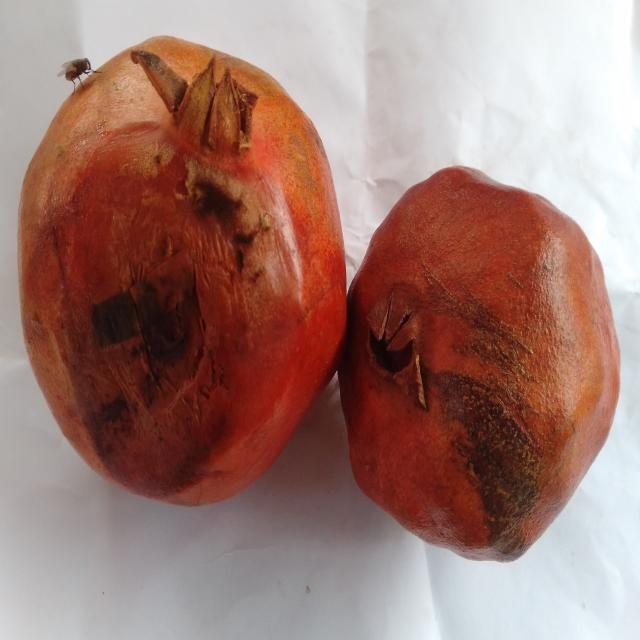Rotten: (16, 31, 348, 514), (351, 153, 622, 571)
